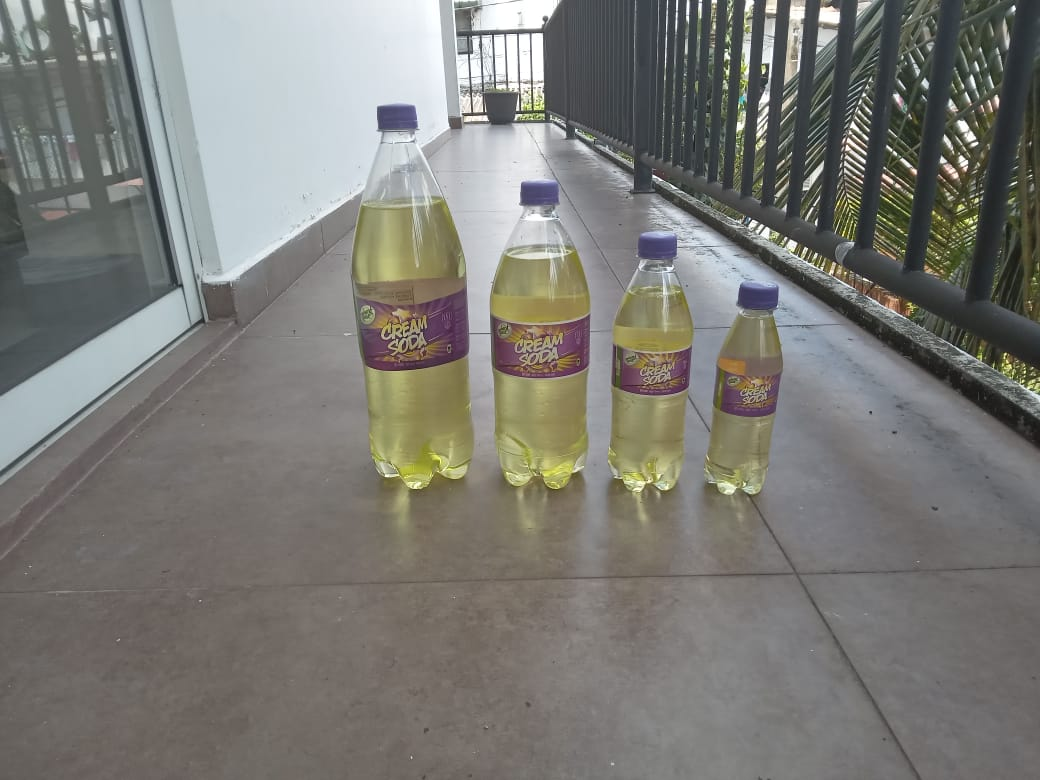L: (349, 105, 474, 490)
M: (490, 182, 589, 490)
S: (609, 228, 695, 499)
Xs: (705, 281, 785, 497)
